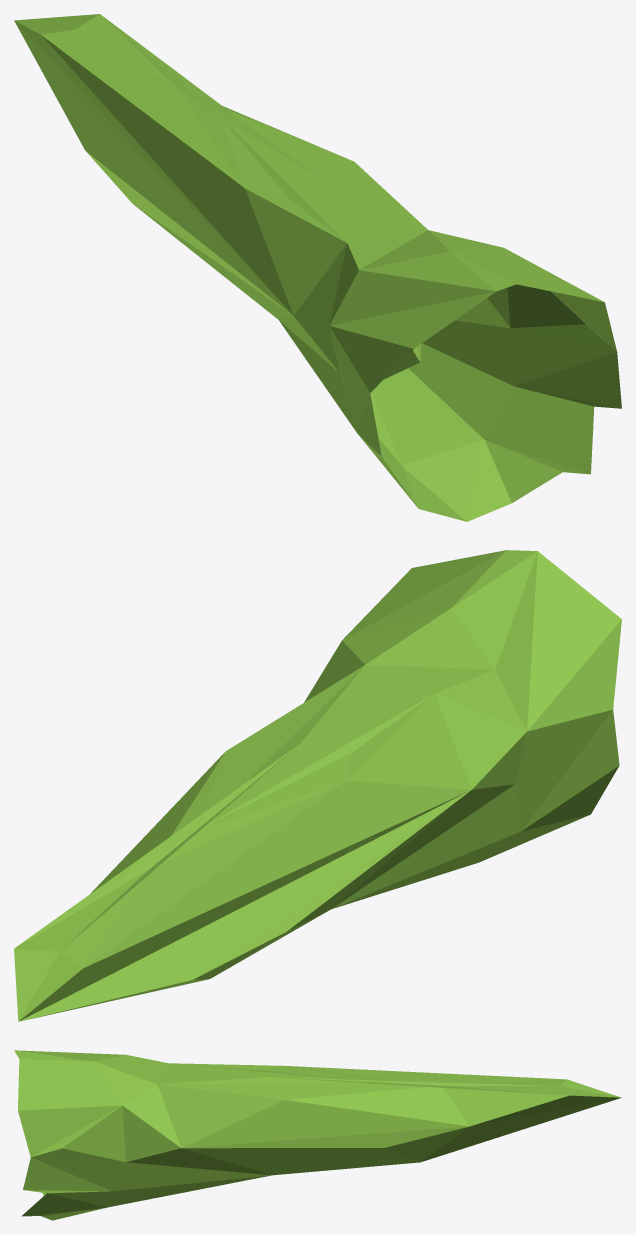
The model's file is Tail.fbx.
The picture shows the model from 3 angles, top to bottom: view 1: azimuth 30°, elevation 25°; view 2: azimuth 150°, elevation 25°; view 3: azimuth 270°, elevation 25°; orthographic projection. The views are drawn at different scales.
Visible parts, largest first — view 1: Tail; view 2: Tail; view 3: Tail.
Part boxes in pixels (x1,y1,x2,y2): Tail: (14, 14, 621, 521); Tail: (14, 550, 621, 1021); Tail: (14, 1050, 621, 1220).
Size of the model in its own units: 21.8 by 22.48 by 77.96.
